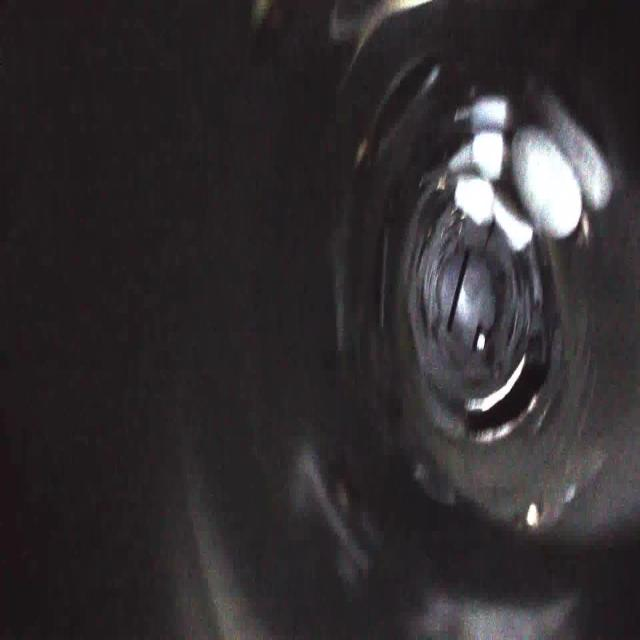crack: (506, 241, 542, 305), (437, 187, 475, 246), (504, 308, 536, 360), (472, 192, 500, 246), (409, 284, 430, 347), (408, 228, 433, 280)
hole: (458, 356, 554, 452)
